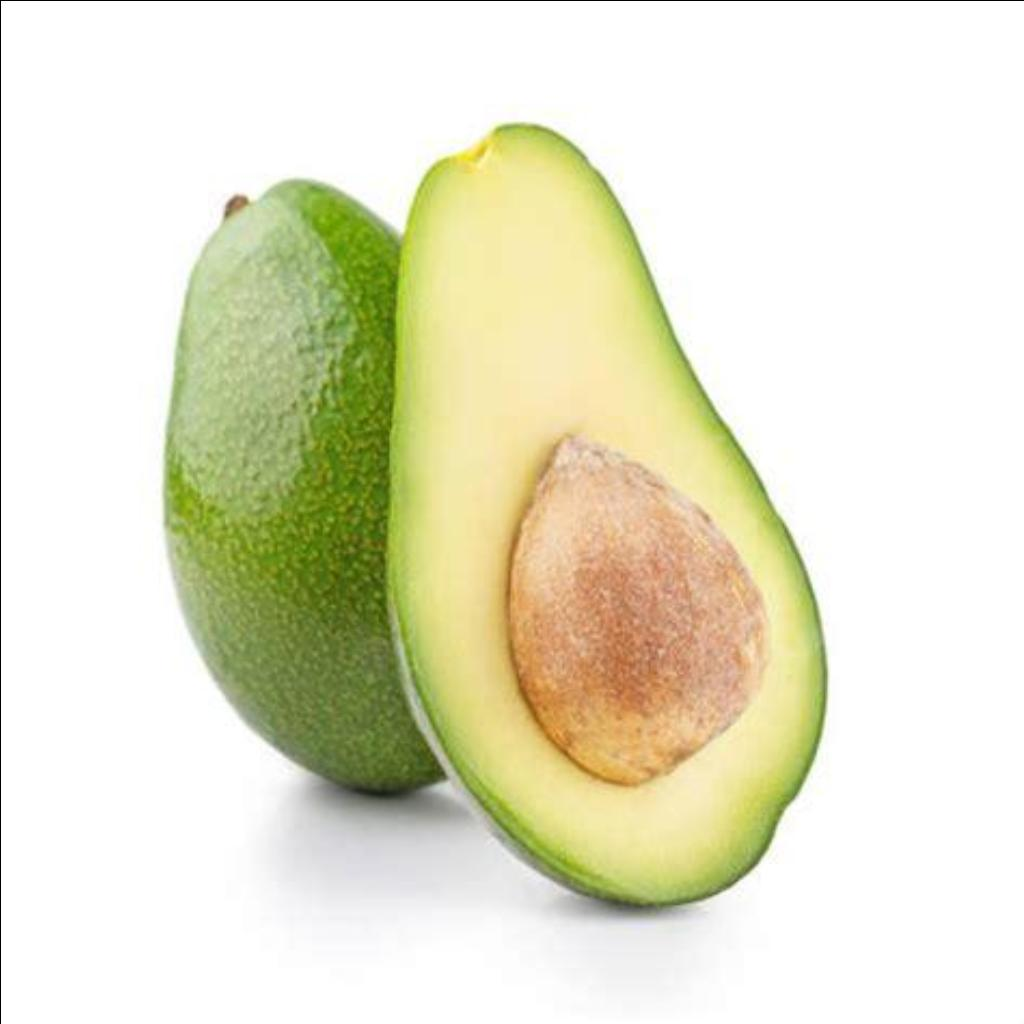fruto_sano: (121, 128, 853, 908)
